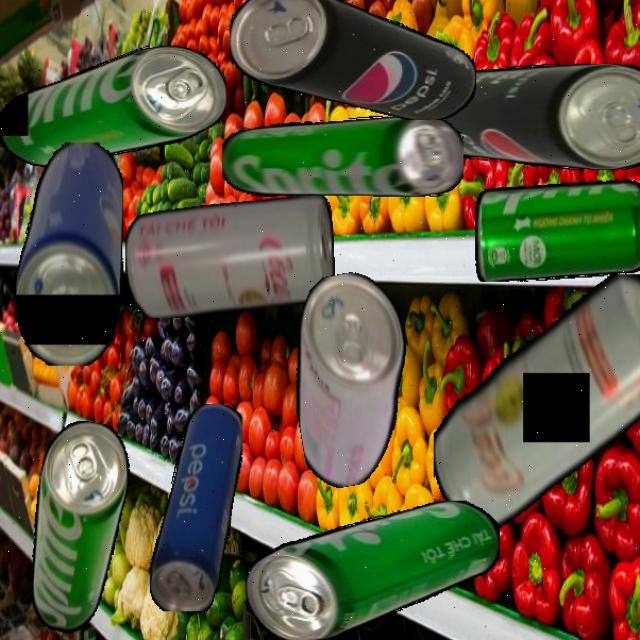debris: (432, 273, 640, 530), (245, 499, 499, 640), (276, 266, 428, 492), (230, 0, 476, 120), (0, 46, 226, 167), (15, 416, 137, 639), (124, 194, 335, 318), (14, 141, 123, 366), (420, 64, 640, 170), (221, 116, 464, 197), (149, 403, 242, 611), (474, 178, 640, 282)
